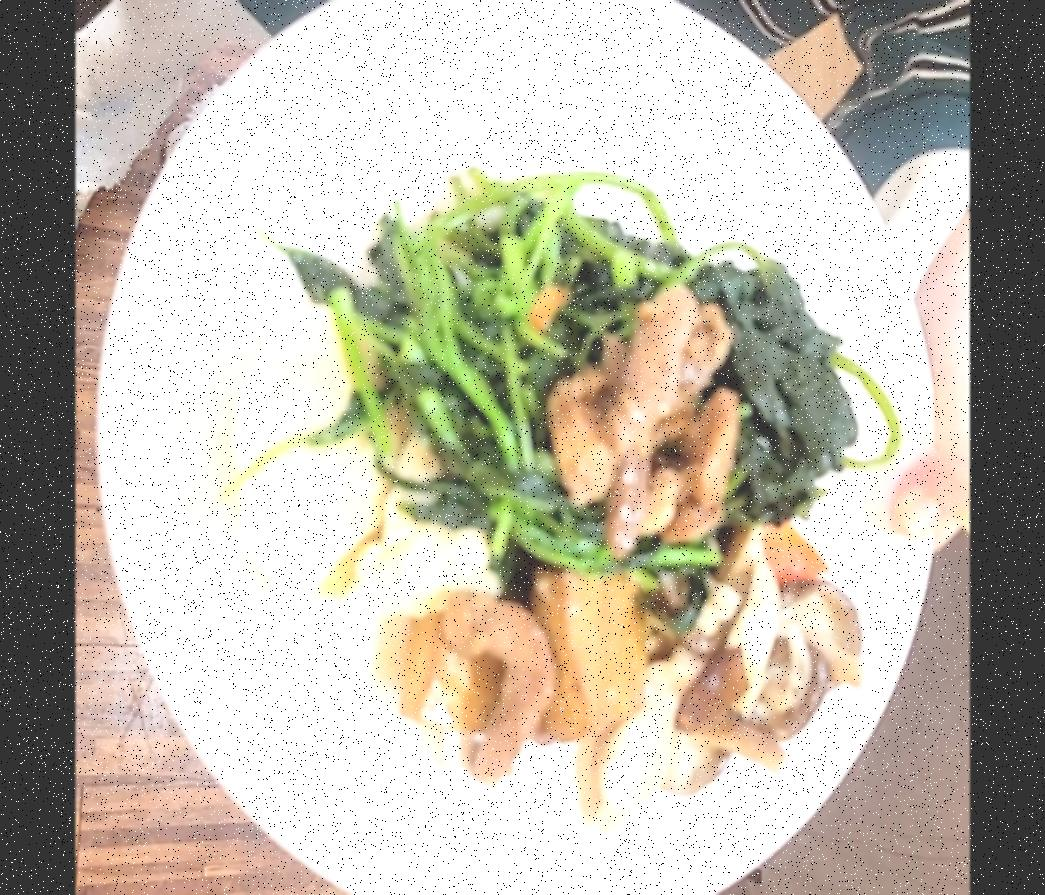big fried chicken leg: (93, 0, 944, 895)
braised fish fillet: (310, 189, 864, 562), (216, 293, 500, 640), (594, 505, 878, 842)
braised pork: (416, 297, 748, 780)
